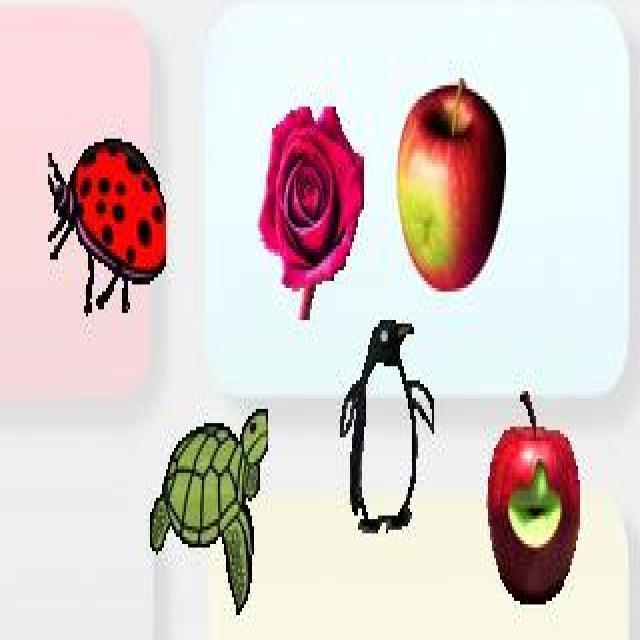Other Objects: (395, 77, 507, 293), (258, 104, 364, 320), (47, 136, 166, 316), (486, 389, 581, 605)
